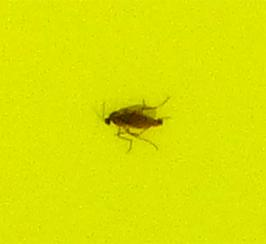Nematocera: (100, 100, 166, 144)
